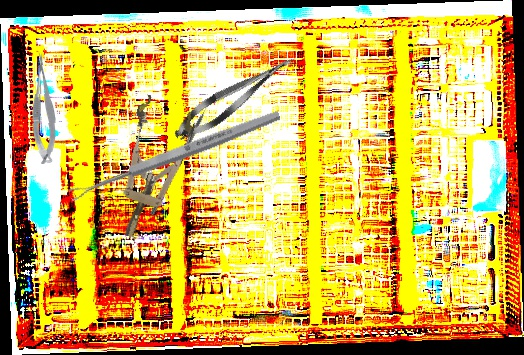Hook Surgical: (149, 93, 216, 217)
Micro Scissor: (167, 46, 303, 148), (30, 51, 59, 166)
Speculum: (99, 92, 200, 246)
Surgical Spoon: (67, 107, 282, 203)
